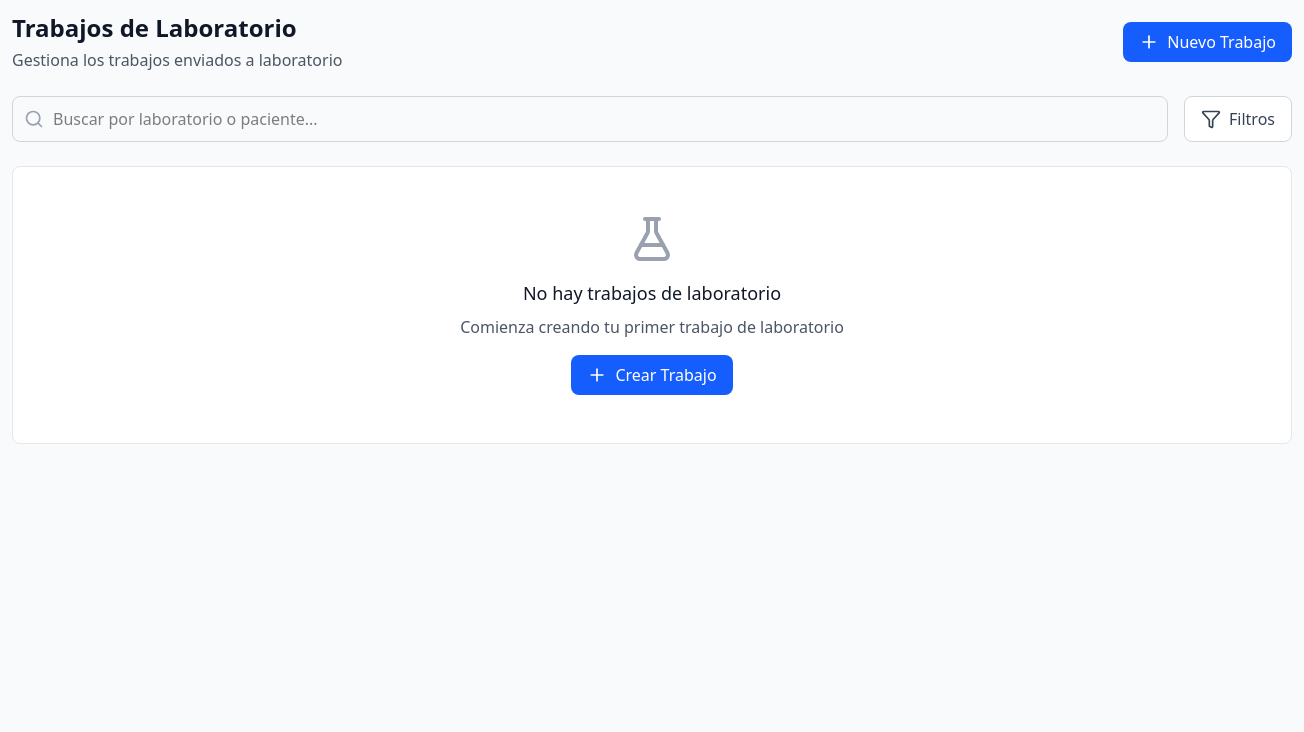
it: LabworksPage › filters › should toggle filters panel
Click the button "Filtros".
click(1238, 119)  # box [1184,96,1292,142]
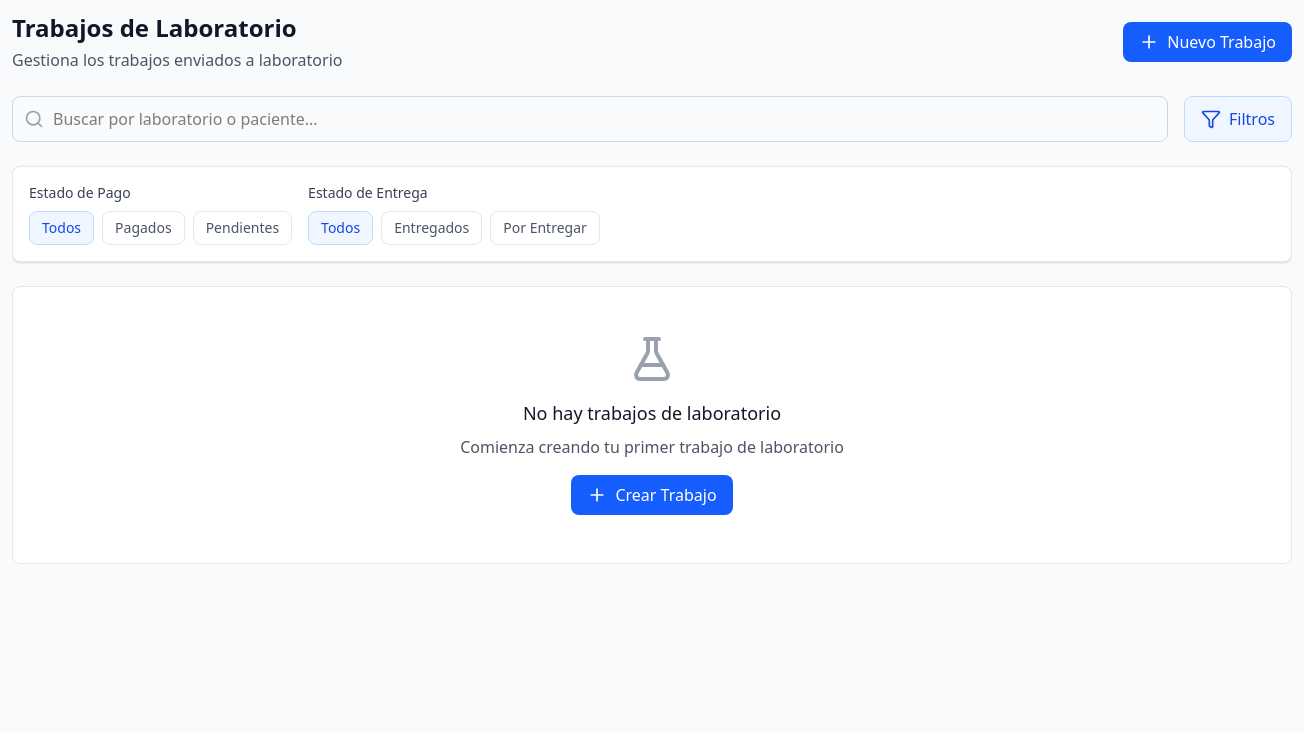
Expected: the text "Estado de Pago" is shown, [29,183,131,202]
Expected: the text "Estado de Entrega" is shown, [308,183,428,202]
